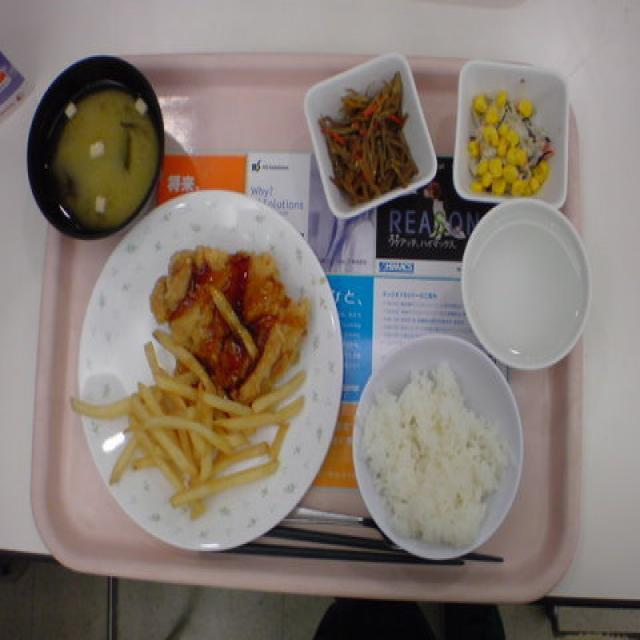French Fries: (103, 372, 296, 496)
Rice: (374, 375, 494, 535)
